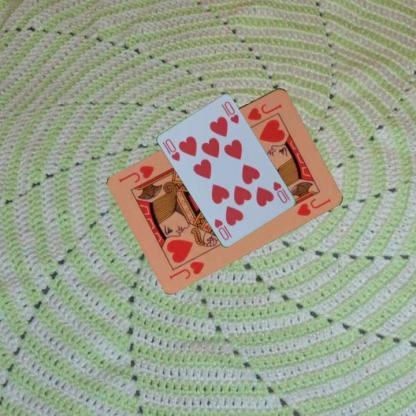10h: (271, 179, 292, 205), (163, 136, 181, 162)
Jh: (166, 258, 207, 280), (245, 100, 283, 122)
